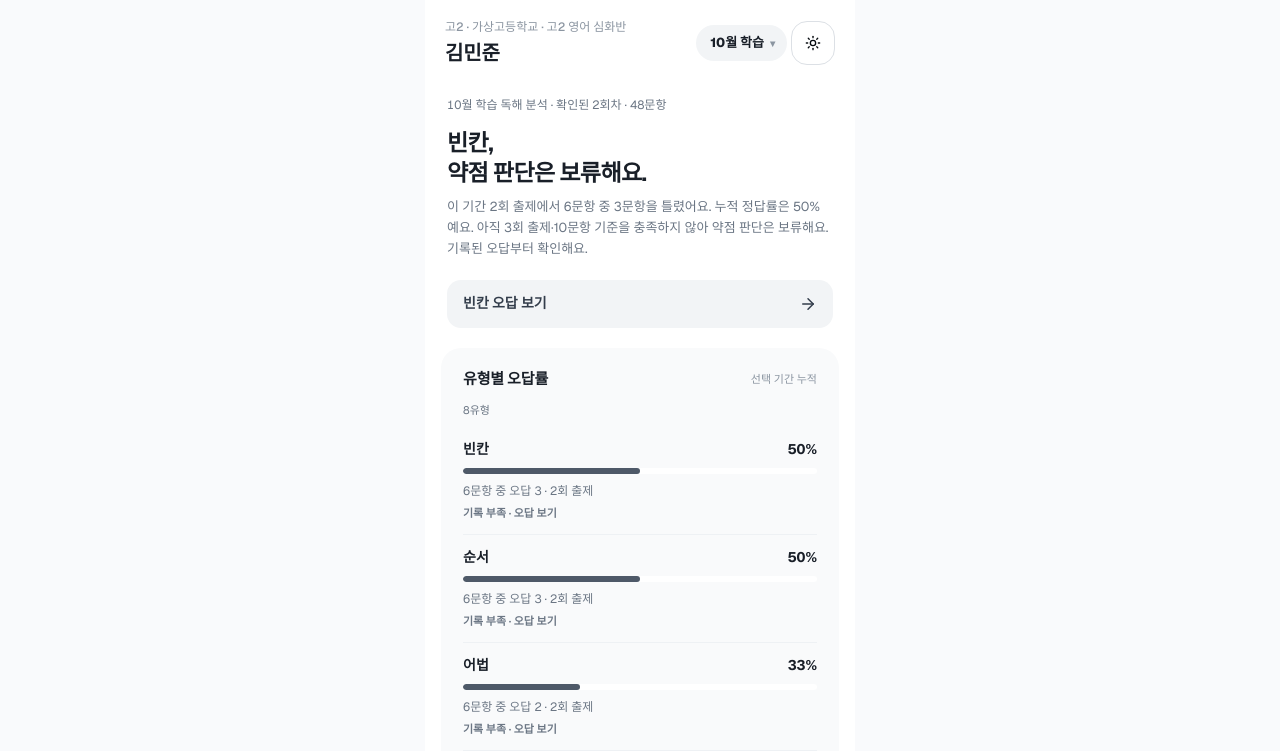
Test case: 공유 리포트 실제 화면 재사용 › 과거 분석 레이아웃의 버튼도 같은 실제 드로어로 이어진다
Click the button with aria-label "빈칸 오답". click: (640, 471)
box: [463, 427, 817, 535]
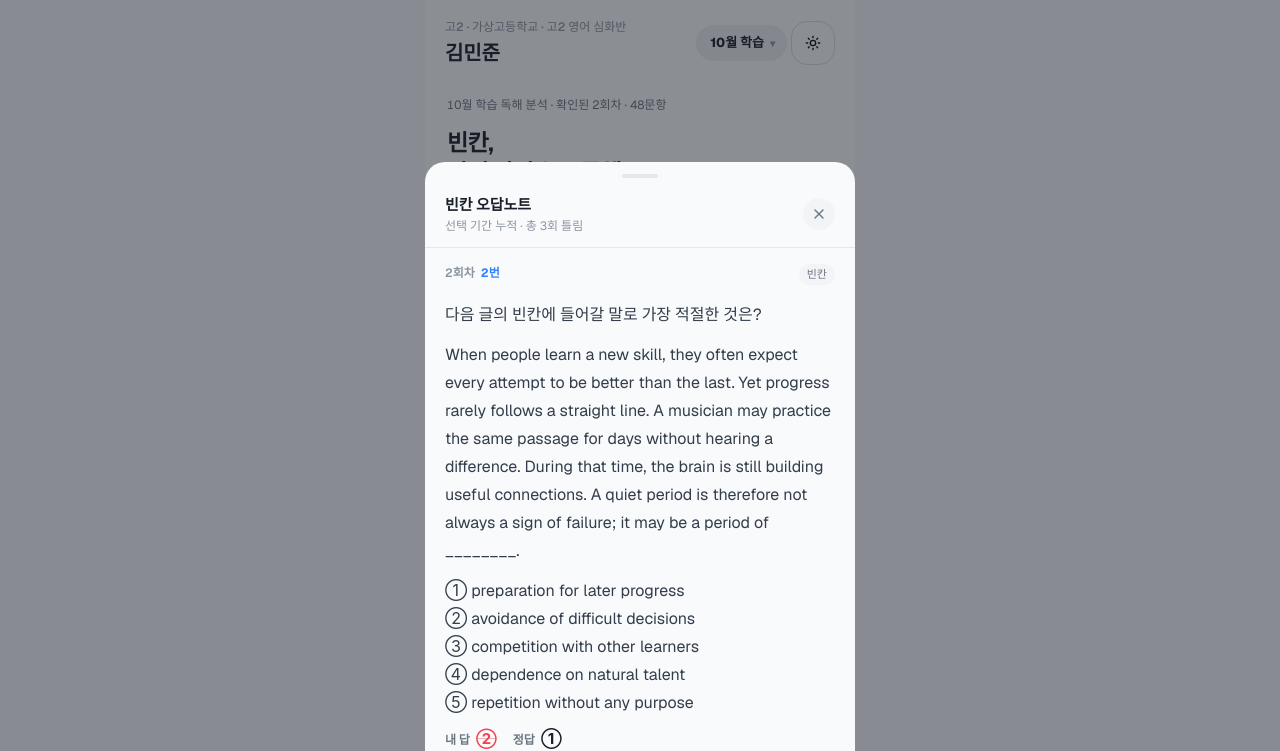
Now the heading "빈칸 오답노트" is shown, box [445, 195, 531, 214]
Now the text "선택 기간 누적 · 총 3회 틀림" is shown, box [445, 216, 583, 234]
